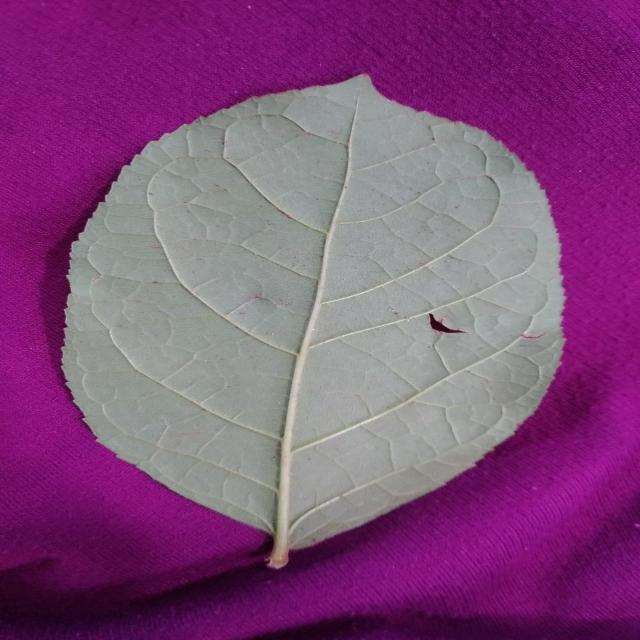padri: (64, 75, 564, 568)
